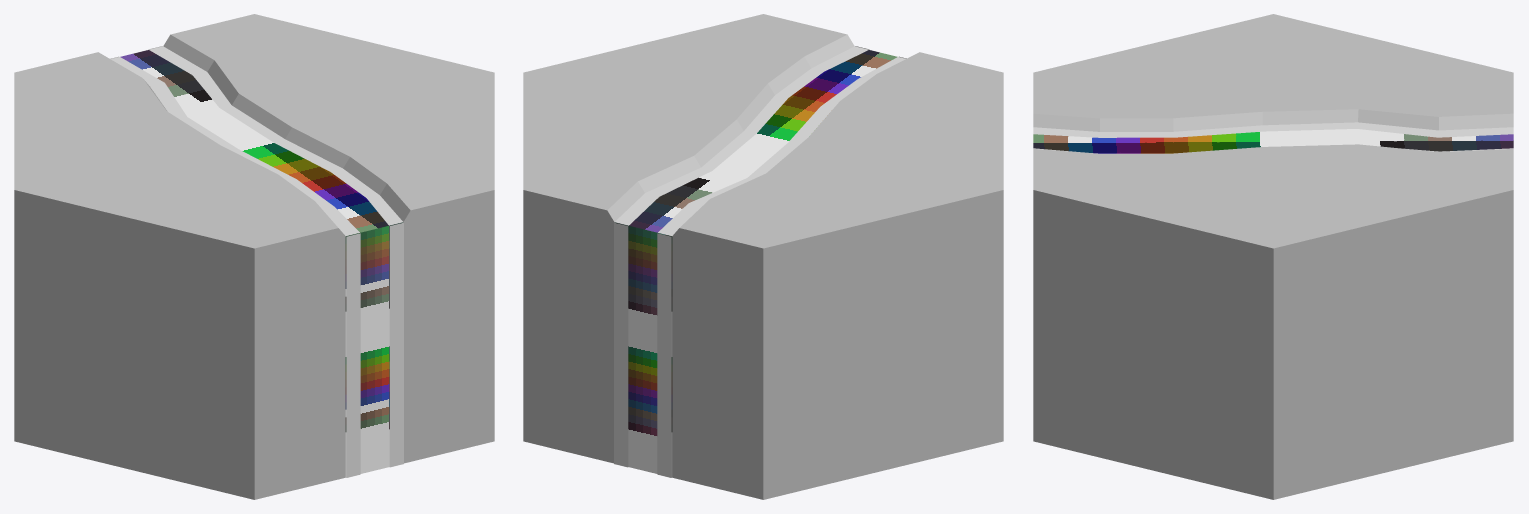
The model's file is Hexagon2_1.fbx.
The picture shows the model from 3 angles, left to right: view 1: azimuth 30°, elevation 25°; view 2: azimuth 150°, elevation 25°; view 3: azimuth 270°, elevation 25°; orthographic projection.
Parts seen in each view (by area): view 1: Hex2_1; view 2: Hex2_1; view 3: Hex2_1.
Part boxes in pixels (x1=…): Hex2_1: x1=14, y1=14, x2=494, y2=499; Hex2_1: x1=523, y1=14, x2=1003, y2=499; Hex2_1: x1=1033, y1=14, x2=1513, y2=499.
Bounding box in the file's own units: 1000 × 500 × 870.
